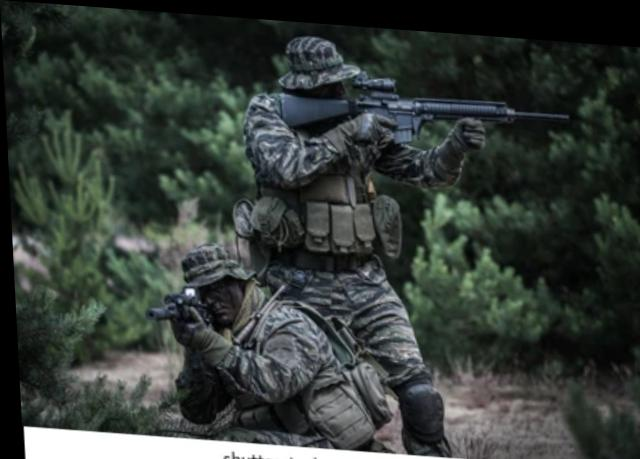other: (224, 17, 446, 421), (124, 223, 410, 441)
